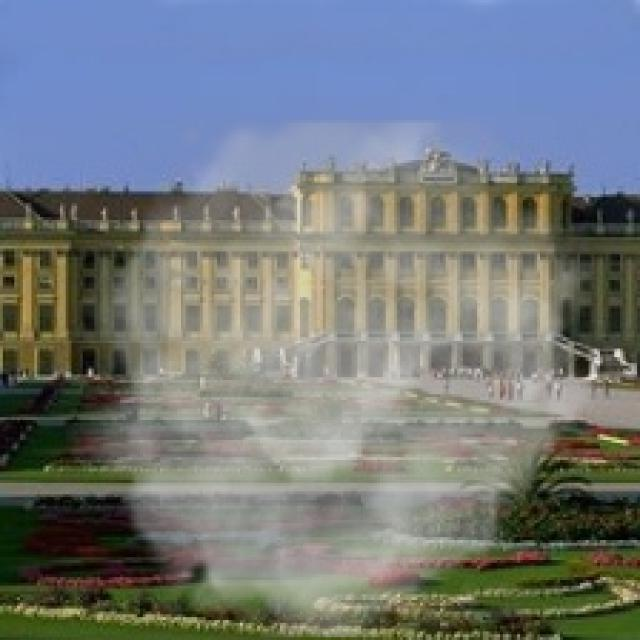smoke: (66, 120, 614, 637)
